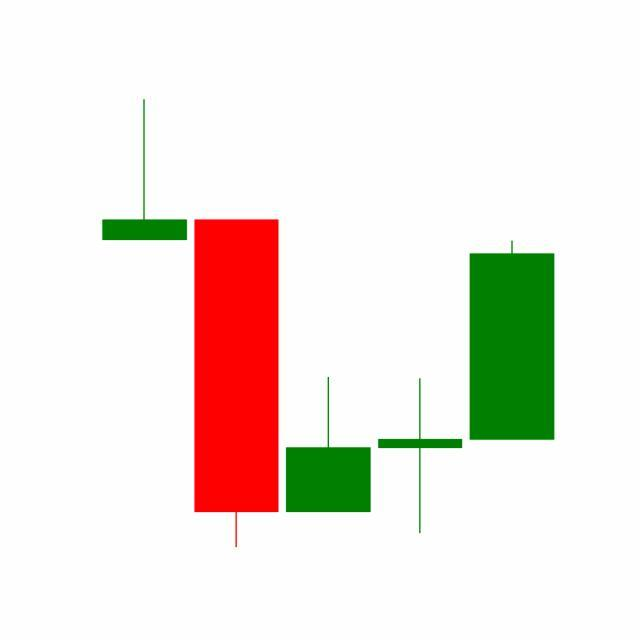Spinning Top: (374, 377, 468, 536)
